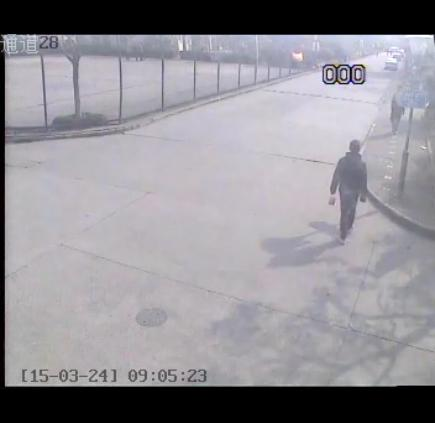person: (324, 135, 381, 250), (386, 80, 413, 143)
